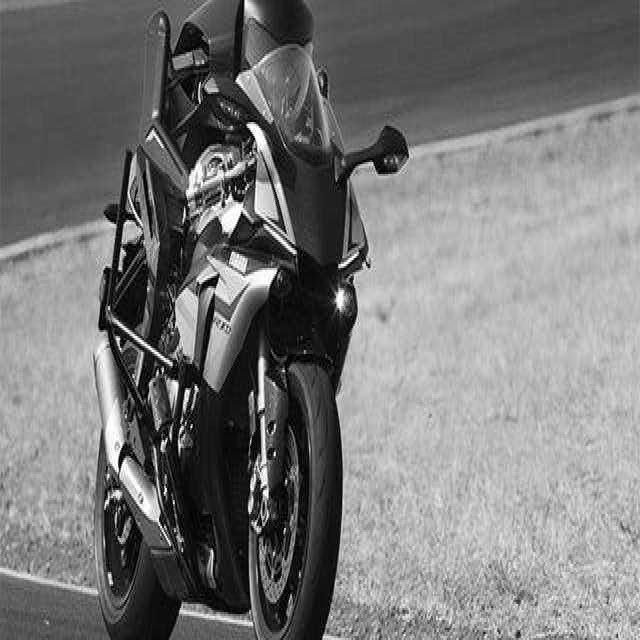Motorcycle: (92, 0, 408, 638)
